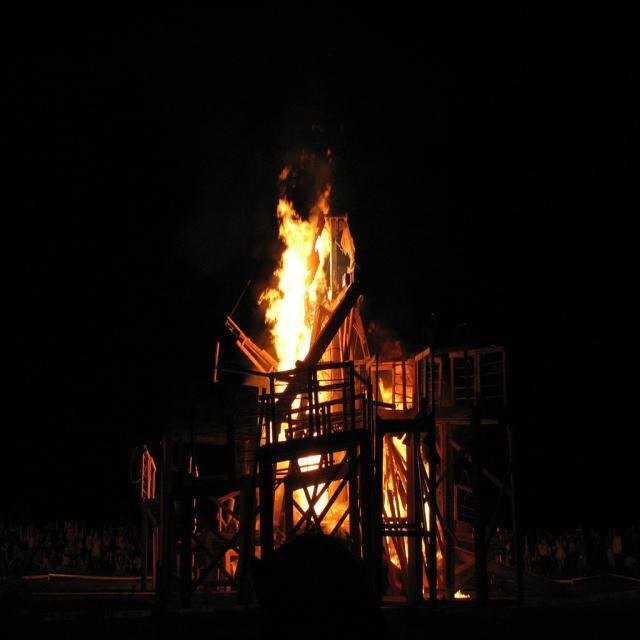Fire: (266, 202, 322, 372)
